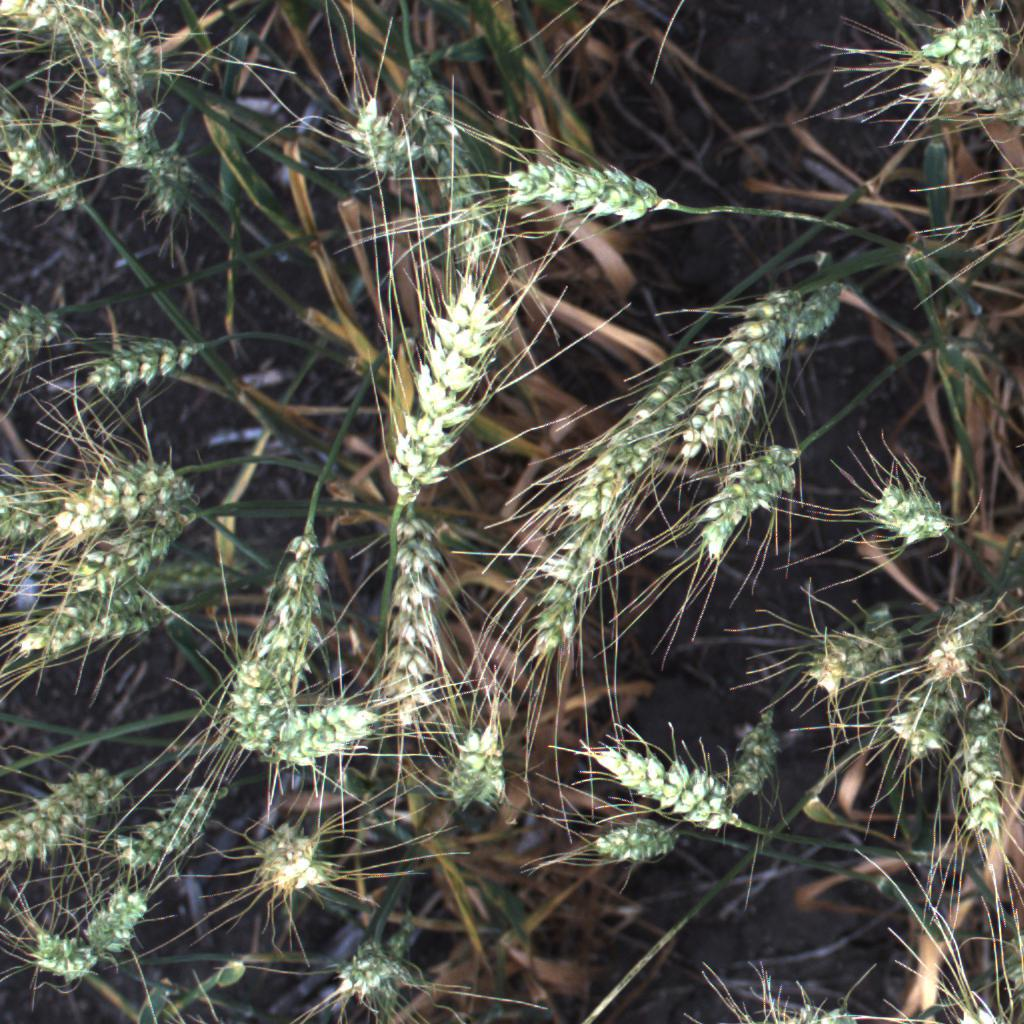0-0: (388, 262, 519, 518), (557, 343, 710, 527), (673, 272, 821, 457), (227, 523, 340, 745), (397, 47, 504, 259), (525, 484, 645, 665), (370, 512, 463, 732), (77, 33, 197, 194), (579, 727, 745, 839), (673, 434, 813, 562), (0, 744, 125, 885), (48, 501, 207, 599), (46, 452, 200, 547), (492, 148, 677, 226), (107, 771, 234, 884), (10, 581, 183, 659), (0, 104, 99, 220), (945, 698, 1019, 851), (0, 0, 146, 76), (243, 698, 388, 772), (75, 330, 214, 399), (908, 4, 1023, 83), (241, 817, 334, 905), (858, 476, 953, 561), (902, 56, 1024, 122), (81, 875, 155, 971), (722, 702, 793, 801), (780, 268, 858, 358), (343, 92, 416, 184), (0, 287, 70, 381), (796, 630, 875, 707), (19, 922, 112, 987), (590, 809, 693, 866), (445, 718, 504, 815), (915, 617, 992, 691), (330, 937, 413, 1004), (0, 476, 75, 542), (886, 692, 947, 765)
